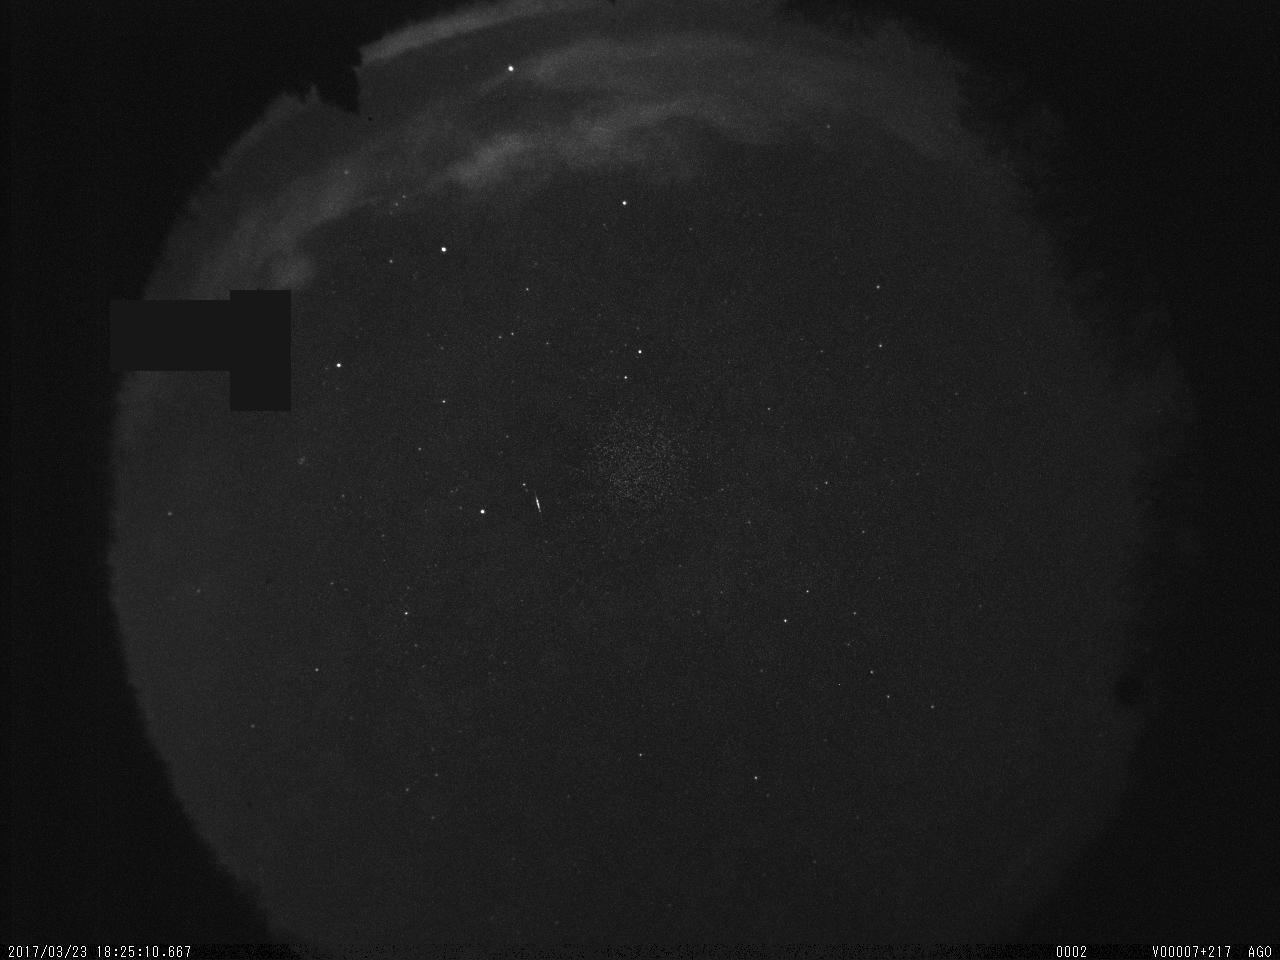Meteor: (530, 493, 544, 518)
